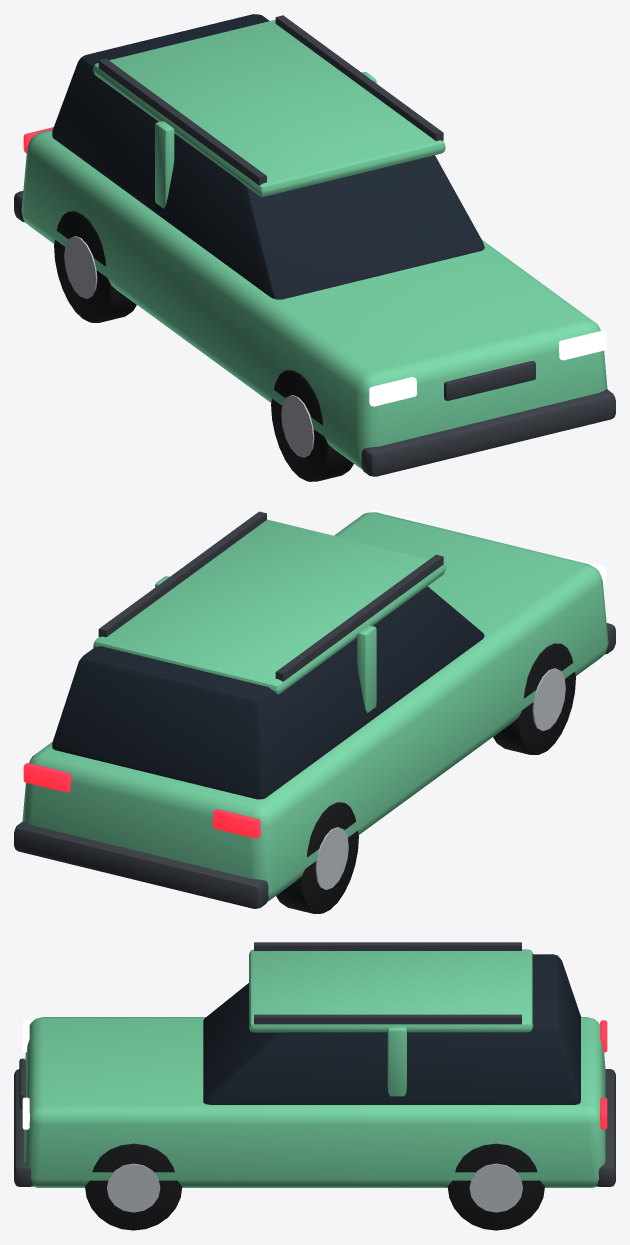
The model's file is trafficSuv.65f82584.glb.
3 views of the same model, one above another, from view 1: azimuth 30°, elevation 25°; view 2: azimuth 150°, elevation 25°; view 3: azimuth 270°, elevation 25° (orthographic). The views are drawn at different scales.
Parts seen in each view (by area): view 1: suv; view 2: suv; view 3: suv.
Boxes of the visible parts, x1,y1,x2,y2 form: suv: (14,14,615,481); suv: (14,510,615,913); suv: (14,942,615,1230).
Size of the model in its own units: 2 by 1.82 by 4.94.
